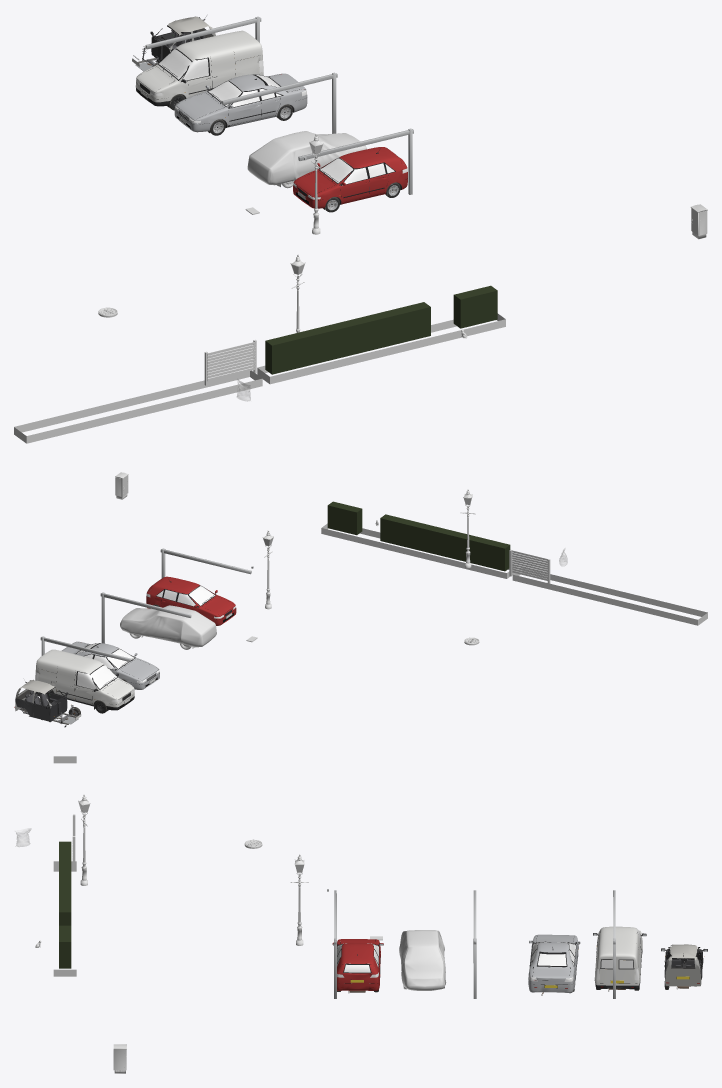
Rendered from cell_1_m1.lite.glb.
3 views of the same model, one above another, from view 1: azimuth 30°, elevation 25°; view 2: azimuth 150°, elevation 25°; view 3: azimuth 270°, elevation 25° (orthographic). The views are drawn at different scales.
Parts seen in each view (by area): view 1: cell_1_m1; view 2: cell_1_m1; view 3: cell_1_m1.
Boxes of the visible parts, x1,y1,x2,y2 form: cell_1_m1: [14, 16, 707, 443]; cell_1_m1: [14, 472, 707, 727]; cell_1_m1: [14, 756, 707, 1073].
Size of the model in its own units: 29.37 by 4.21 by 27.08.
